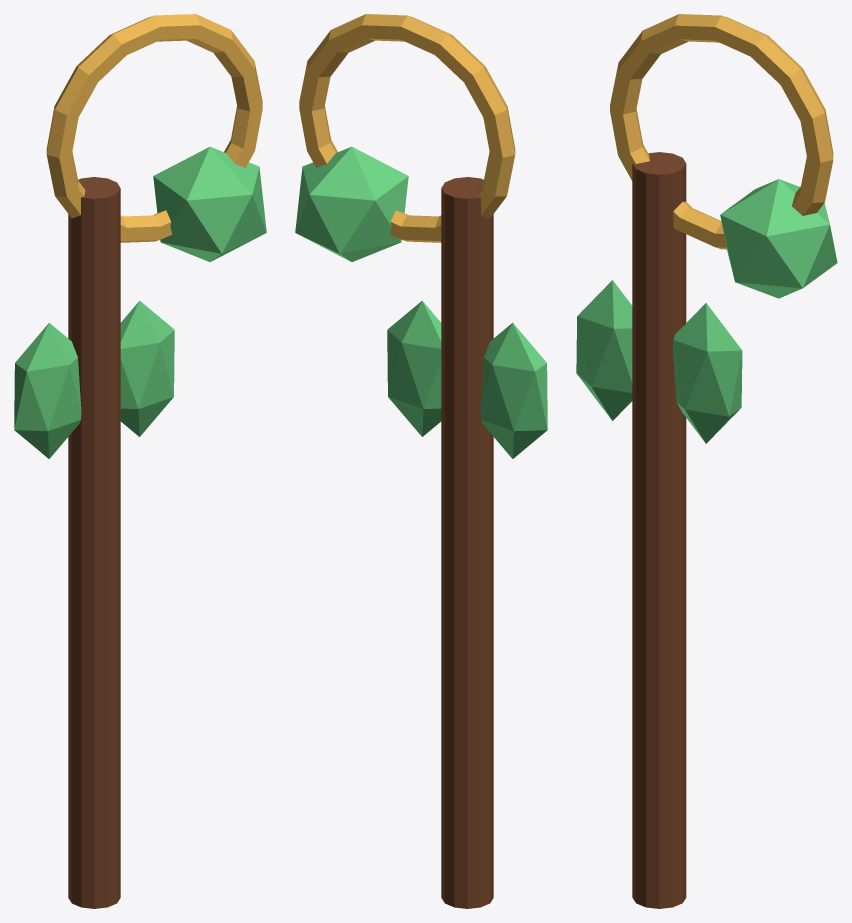
File: harvest-crook-1.glb
The picture shows the model from 3 angles, left to right: view 1: azimuth 30°, elevation 25°; view 2: azimuth 150°, elevation 25°; view 3: azimuth 330°, elevation 25°; orthographic projection. The views are drawn at different scales.
Parts seen in each view (by area): view 1: Cylinder, Torus.008, Icosphere, Icosphere.001, Icosphere.002; view 2: Cylinder, Torus.008, Icosphere, Icosphere.001, Icosphere.002; view 3: Cylinder, Torus.008, Icosphere, Icosphere.002, Icosphere.001.
Part boxes in pixels (x1,y1,x2,y2): Cylinder: [68, 177, 120, 908]; Torus.008: [46, 14, 262, 242]; Icosphere: [153, 146, 266, 261]; Icosphere.001: [14, 322, 81, 458]; Icosphere.002: [120, 300, 174, 436]; Cylinder: [441, 177, 493, 908]; Torus.008: [299, 14, 515, 242]; Icosphere: [295, 146, 408, 261]; Icosphere.001: [480, 322, 547, 458]; Icosphere.002: [387, 300, 441, 436]; Cylinder: [632, 152, 686, 908]; Torus.008: [610, 14, 833, 249]; Icosphere: [720, 179, 837, 298]; Icosphere.002: [673, 303, 742, 443]; Icosphere.001: [576, 280, 632, 420].
Bounding box in the file's own units: 0.4948 × 1.65 × 0.1871.
